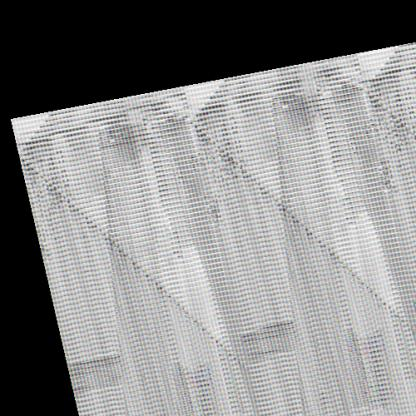Damage: (93, 100, 254, 203)
